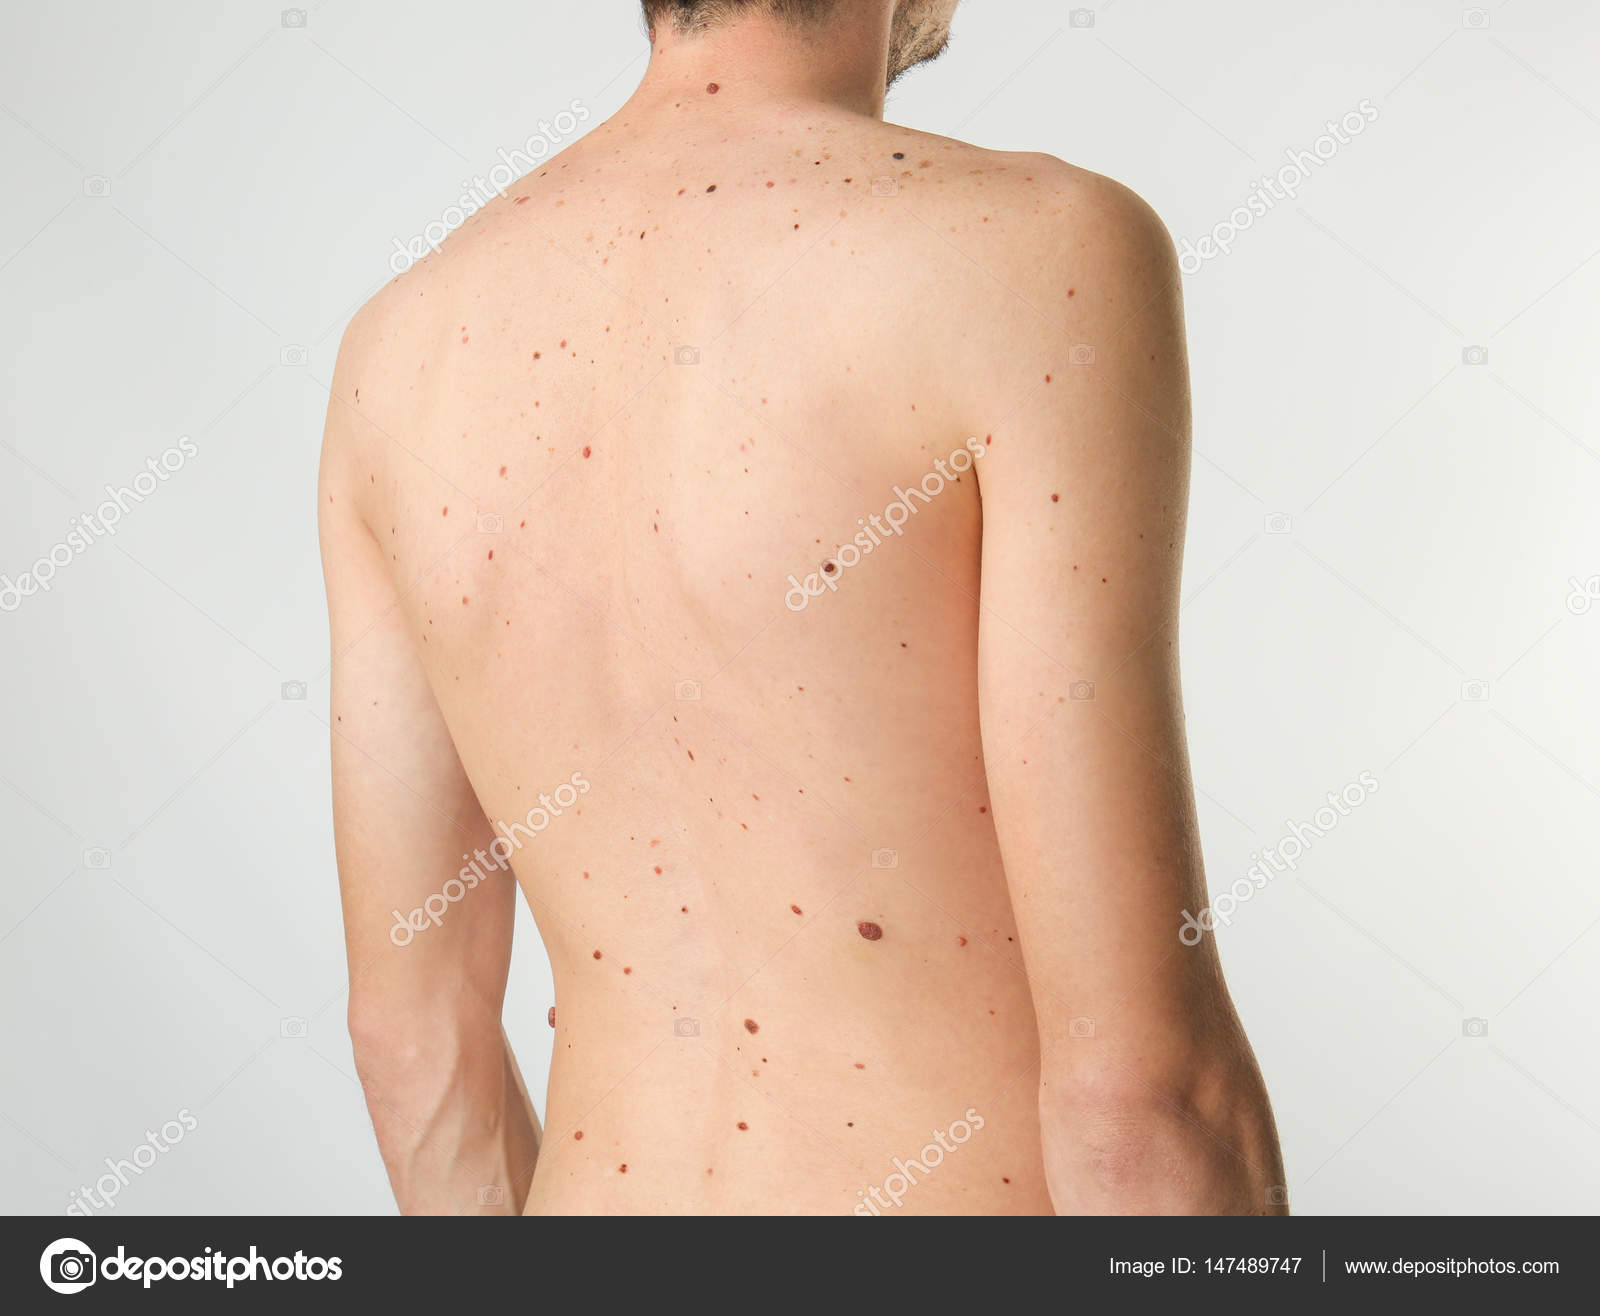mole: (839, 915, 886, 950), (723, 1106, 767, 1145), (528, 1001, 570, 1040), (732, 1004, 765, 1051), (1039, 483, 1079, 520), (777, 889, 812, 931), (809, 553, 850, 584), (609, 1152, 645, 1186), (575, 940, 609, 973), (561, 1115, 591, 1150), (784, 211, 812, 247), (514, 342, 551, 368), (668, 897, 700, 928), (700, 64, 726, 101), (1056, 280, 1092, 306), (1034, 362, 1060, 395), (881, 144, 912, 171), (573, 437, 601, 465), (695, 178, 718, 198)
